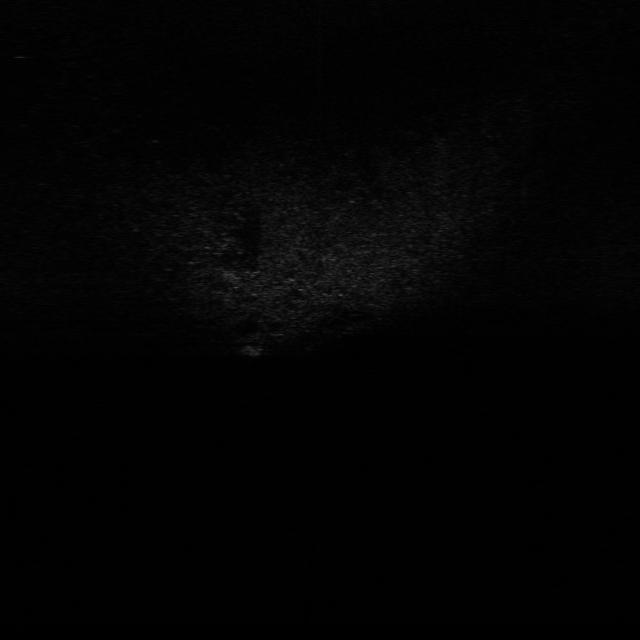cube: (240, 342, 270, 360)
